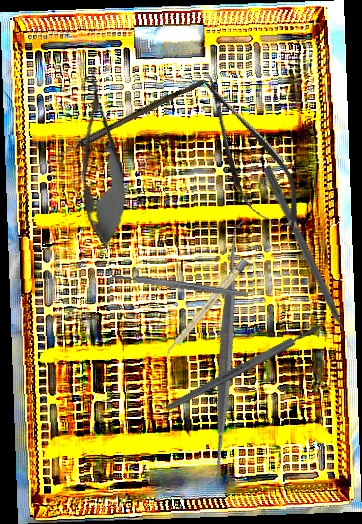Micro Scissor: (181, 64, 318, 248), (70, 65, 131, 249)
Pusher: (260, 165, 357, 354)
Scalpel Handle: (164, 321, 324, 413), (163, 257, 249, 359), (111, 272, 249, 299)
Spatula Surgical: (94, 219, 359, 486)
Surgical Spoon: (35, 75, 205, 172)
